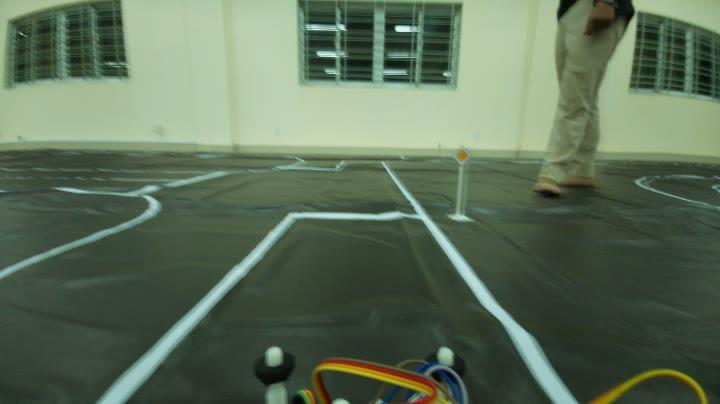priority: (447, 145, 475, 167)
